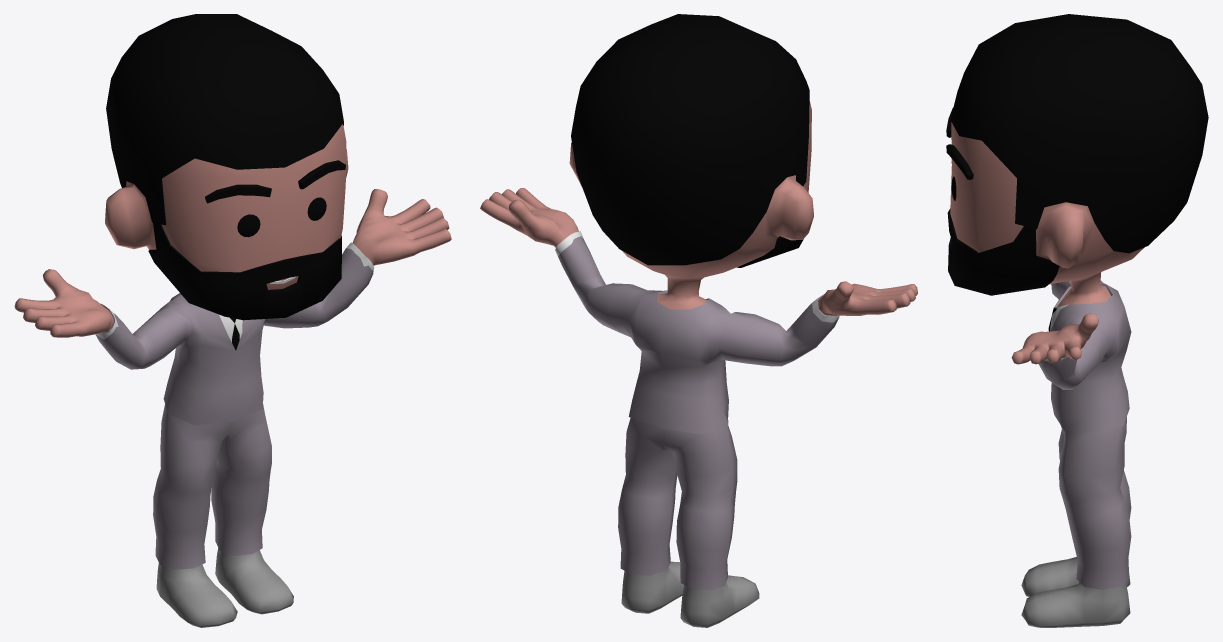
Rendered from Personaje_juzgado.fbx.
3 renders of one model, left to right at view 1: azimuth 30°, elevation 25°; view 2: azimuth 150°, elevation 25°; view 3: azimuth 270°, elevation 25°, orthographic.
Parts seen in each view (by area): view 1: hair4.001, body.005, shirt3.005, pants1.005, beard1, socks.005, eyebrows1.005, eyes6.005; view 2: hair4.001, shirt3.005, pants1.005, body.005, socks.005; view 3: hair4.001, body.005, pants1.005, shirt3.005, socks.005, beard1, eyebrows1.005.
Boxes of the visible parts, bbox=[...] form: hair4.001: bbox=[106, 14, 343, 225]; body.005: bbox=[14, 124, 451, 337]; shirt3.005: bbox=[95, 242, 374, 425]; pants1.005: bbox=[153, 404, 271, 569]; beard1: bbox=[148, 222, 341, 320]; socks.005: bbox=[156, 548, 293, 627]; eyebrows1.005: bbox=[205, 160, 345, 203]; eyes6.005: bbox=[237, 197, 326, 237]; hair4.001: bbox=[571, 14, 809, 265]; shirt3.005: bbox=[555, 231, 839, 434]; pants1.005: bbox=[618, 418, 737, 590]; body.005: bbox=[480, 101, 917, 315]; socks.005: bbox=[621, 561, 759, 627]; hair4.001: bbox=[950, 14, 1208, 253]; body.005: bbox=[950, 122, 1144, 364]; pants1.005: bbox=[1058, 417, 1131, 589]; shirt3.005: bbox=[1038, 280, 1131, 432]; socks.005: bbox=[1021, 557, 1130, 627]; beard1: bbox=[947, 208, 1059, 295]; eyebrows1.005: bbox=[946, 107, 973, 179].
Bounding box in the file's own units: 131 × 172 × 70.34.
